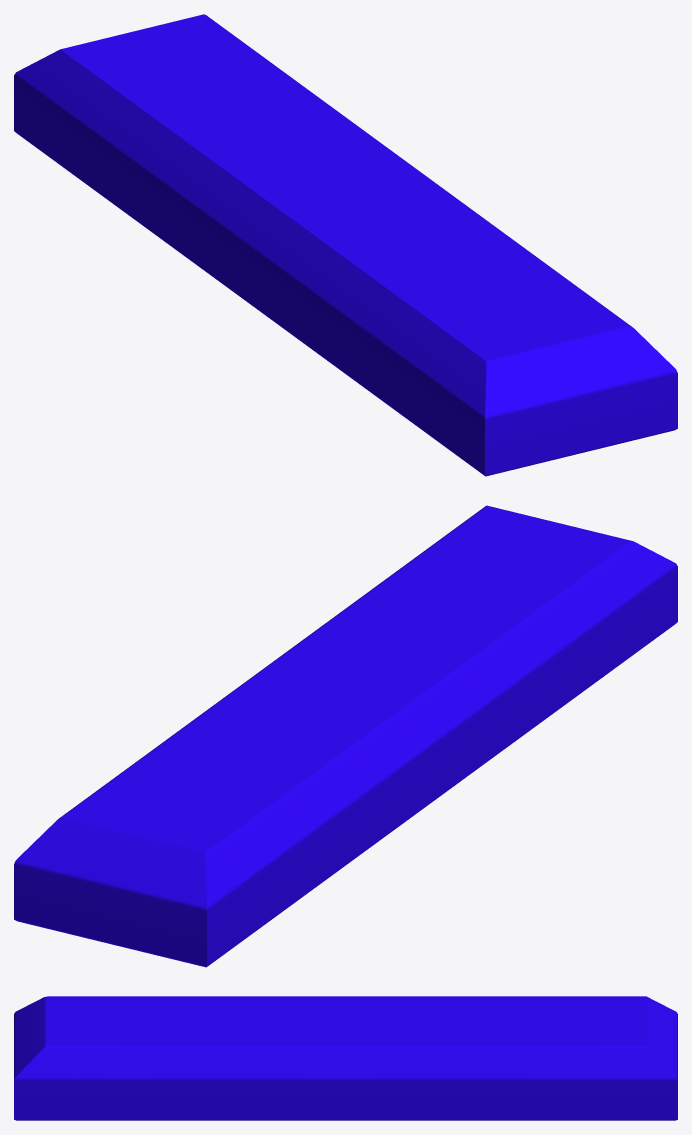
File: Flurescente_1_1.fbx
The picture shows the model from 3 angles, top to bottom: view 1: azimuth 30°, elevation 25°; view 2: azimuth 150°, elevation 25°; view 3: azimuth 270°, elevation 25°; orthographic projection. The views are drawn at different scales.
Visible parts, largest first — view 1: pCube11; view 2: pCube11; view 3: pCube11.
Boxes of the visible parts, box(x1,y1,x2,y2) form: pCube11: box(14, 14, 677, 476); pCube11: box(14, 505, 677, 967); pCube11: box(14, 996, 677, 1120).
Bounding box in the file's own units: 5.38 × 2.52 × 22.75.
